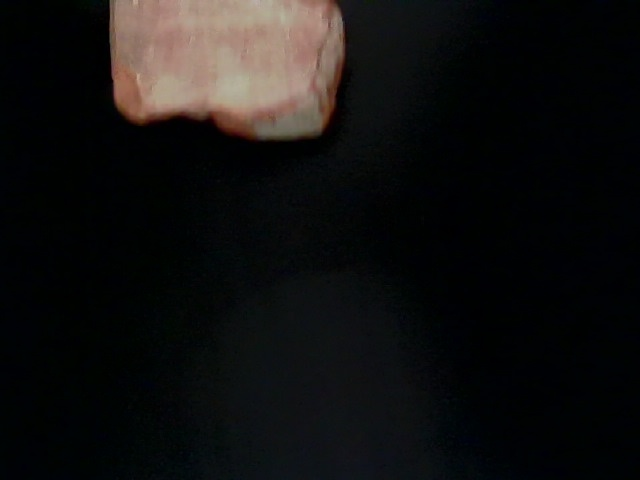KHSLJ: (32, 161, 385, 480)
